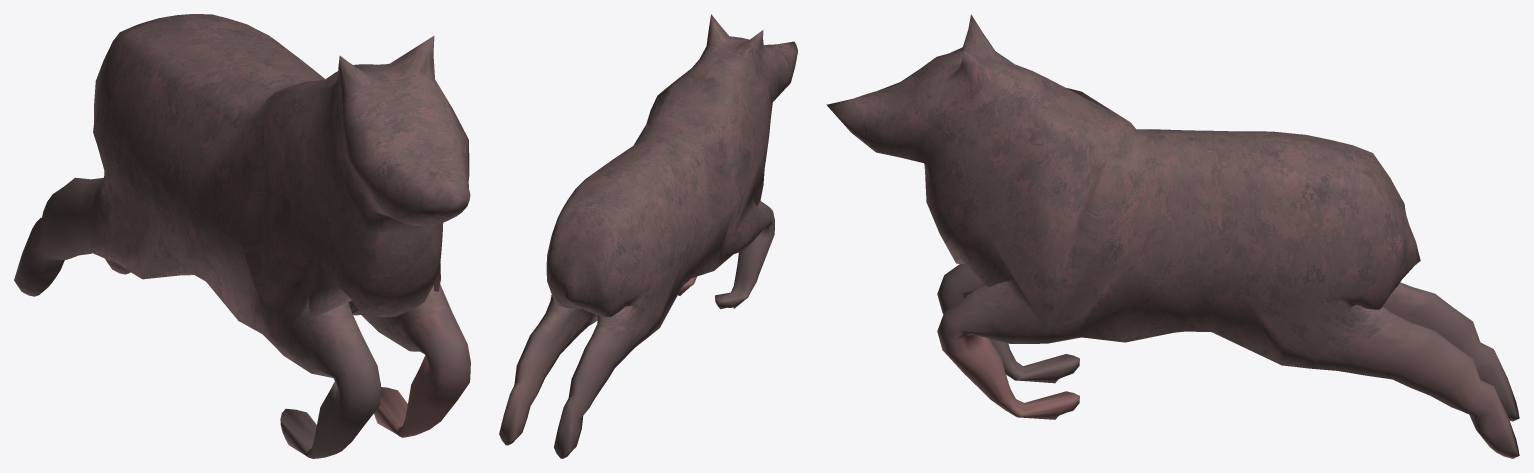
The model's file is piesblend_000015.obj.
3 views of the same model, side by side, from view 1: azimuth 30°, elevation 25°; view 2: azimuth 150°, elevation 25°; view 3: azimuth 270°, elevation 25° (orthographic). The views are drawn at different scales.
Parts seen in each view (by area): view 1: Cube; view 2: Cube; view 3: Cube.
Part boxes in pixels (x1,y1,x2,y2): Cube: [14, 14, 470, 458]; Cube: [499, 14, 797, 458]; Cube: [826, 14, 1519, 458].
Bounding box in the file's own units: 2.55 × 6.32 × 9.83.
Materials: 1 (1 with a texture image).
